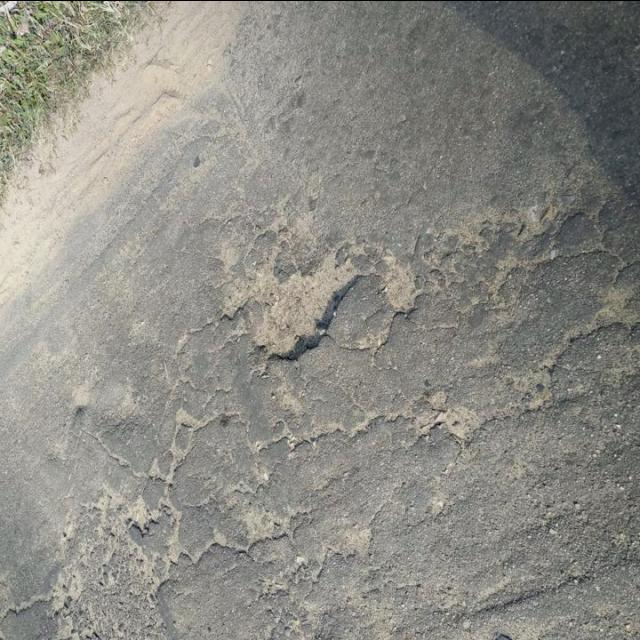pothole: (224, 183, 430, 382), (49, 453, 197, 640)
